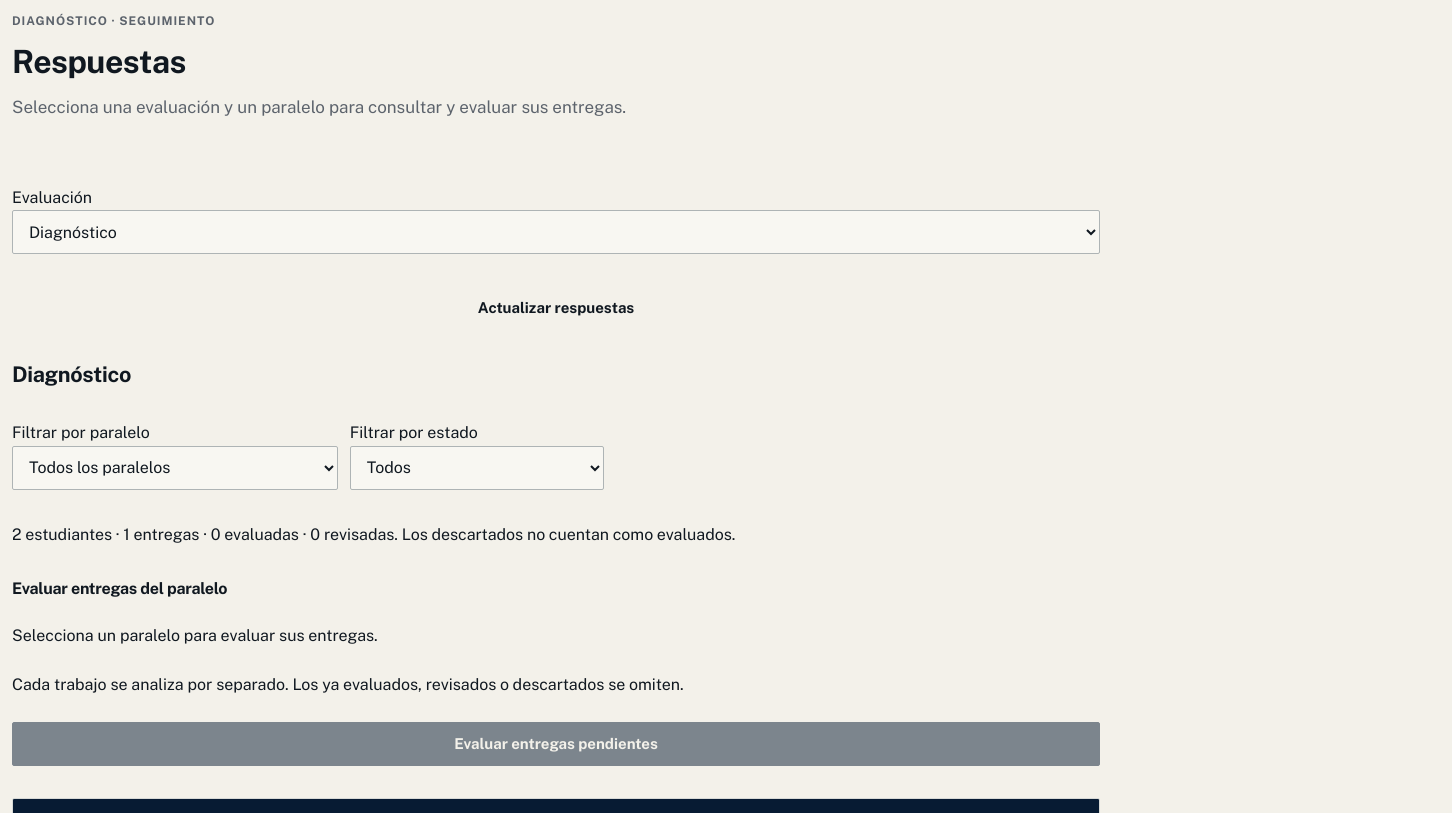
separa estudiantes y resumen por paralelo y exige seleccionar uno para evaluar
Check: the button "Evaluar entregas pendientes" is disabled, box left=12, top=722, right=1100, bottom=766
Select "1A (2026)" in the dropdown labelled "Filtrar por paralelo" at (175, 468), box left=12, top=446, right=338, bottom=490
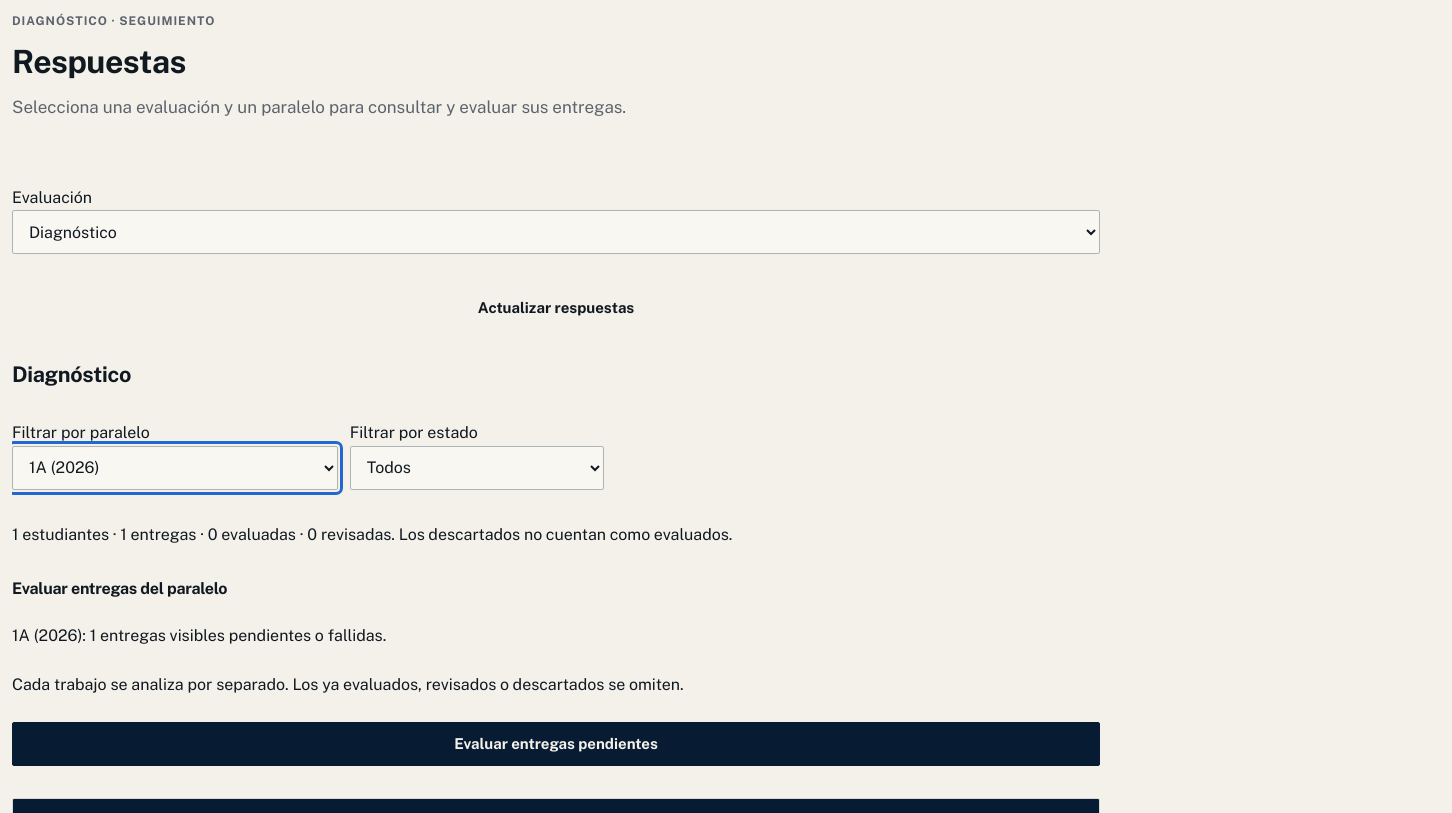
Check: the text named "Resumen del paralelo" shows "1 estudiantes · 1 entregas", box left=12, top=525, right=732, bottom=544
Check: the button "Evaluar entregas pendientes" is enabled, box left=12, top=722, right=1100, bottom=766
Select "1B (2026)" in the dropdown labelled "Filtrar por paralelo" at (175, 468), box left=12, top=446, right=338, bottom=490
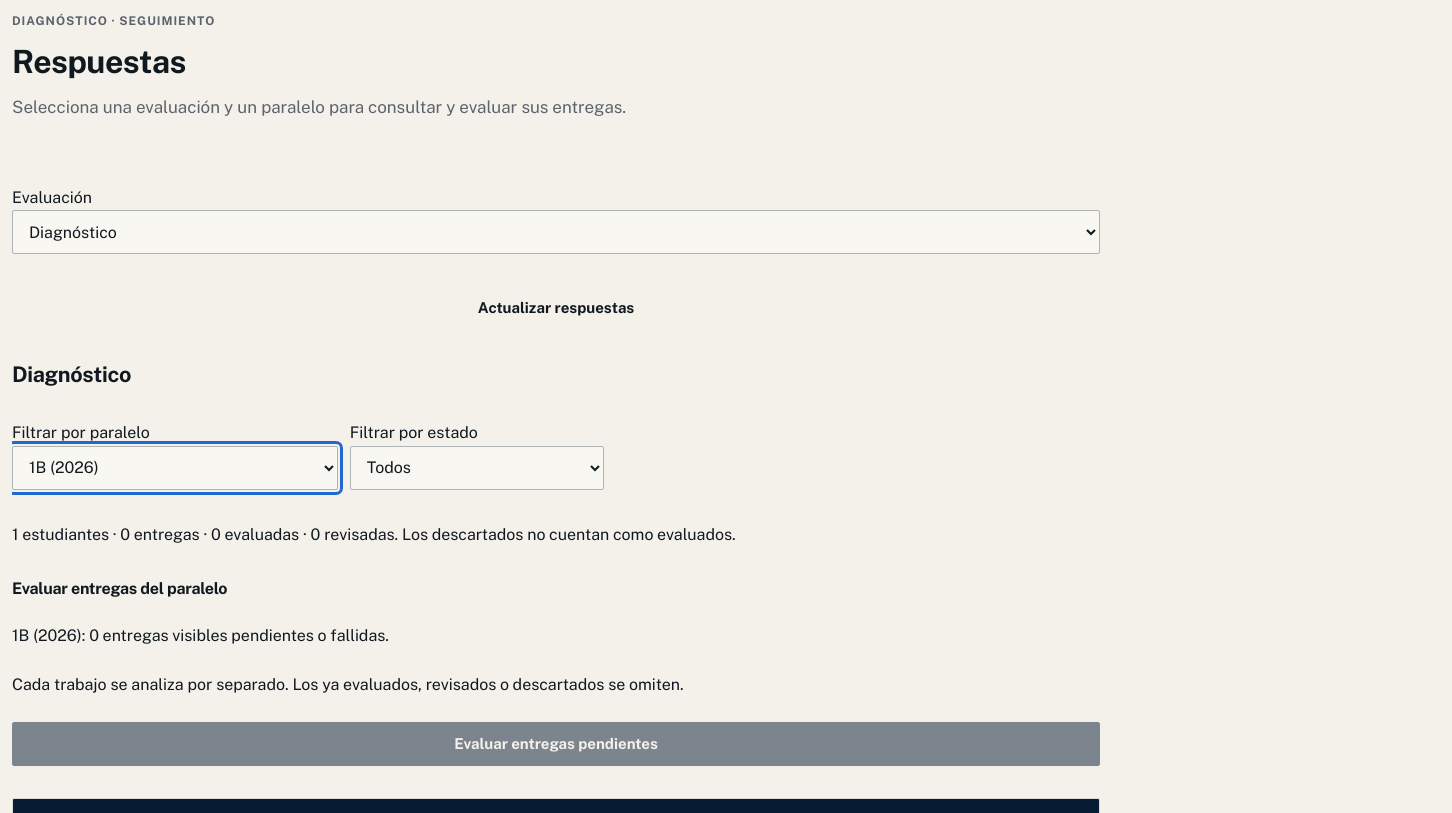
Check: the button "Evaluar entregas pendientes" is disabled, box left=12, top=722, right=1100, bottom=766
